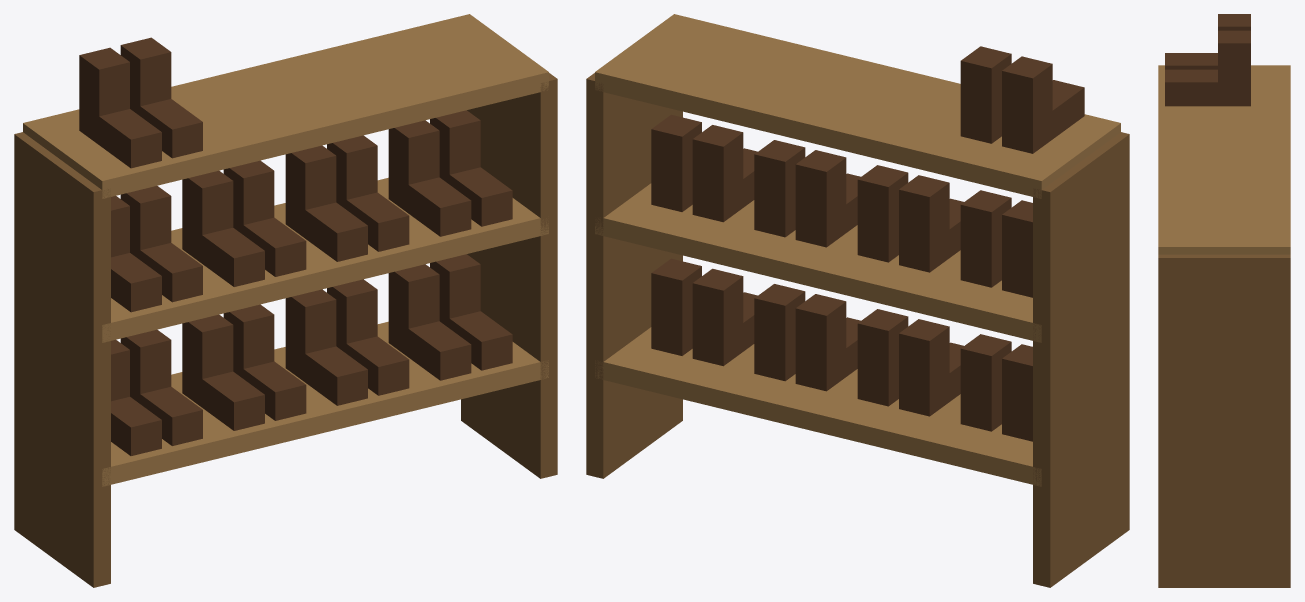
File: pile_shoes_2.glb
3 renders of one model, left to right at view 1: azimuth 30°, elevation 25°; view 2: azimuth 150°, elevation 25°; view 3: azimuth 270°, elevation 25°, orthographic. The views are drawn at different scales.
Parts seen in each view (by area): view 1: pile_shoes_2; view 2: pile_shoes_2; view 3: pile_shoes_2.
Boxes of the visible parts, x1,y1,x2,y2 form: pile_shoes_2: (14,14,557,587); pile_shoes_2: (586,14,1129,587); pile_shoes_2: (1158,14,1290,587).
Size of the model in its own units: 1.35 by 1.34 by 0.4.
